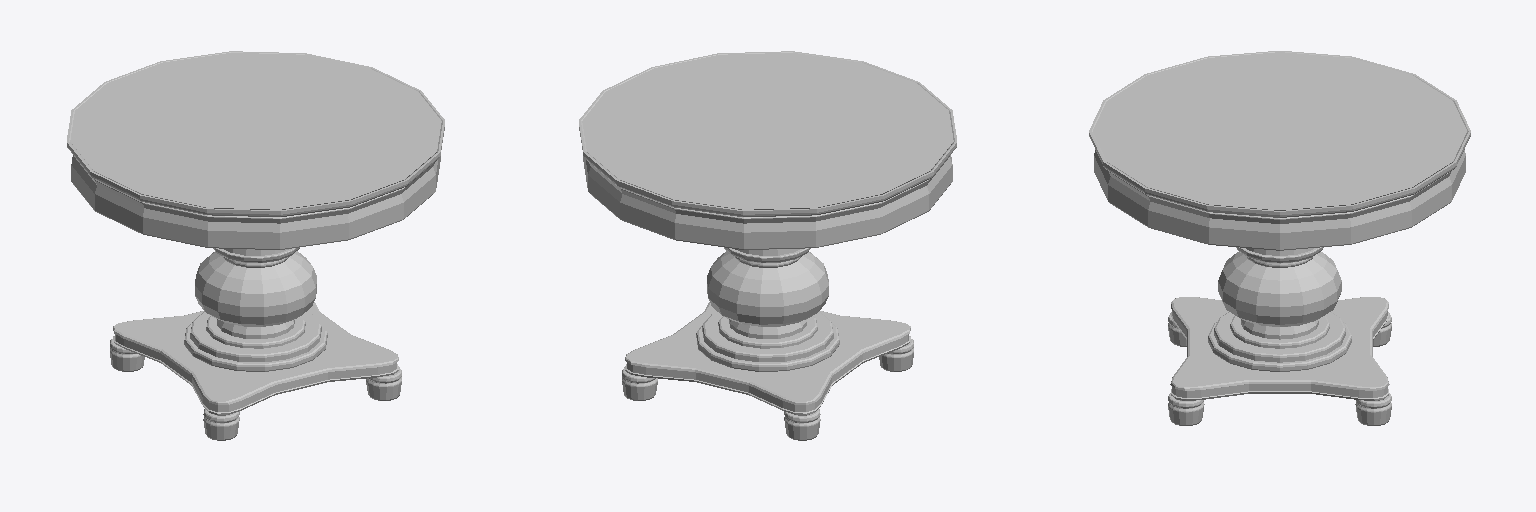
The model's file is table.obj.
The picture shows the model from 3 angles: view 1: azimuth 30°, elevation 25°; view 2: azimuth 150°, elevation 25°; view 3: azimuth 270°, elevation 25°; orthographic projection.
Visible parts, largest first — view 1: Table.001_Cylinder.006; view 2: Table.001_Cylinder.006; view 3: Table.001_Cylinder.006.
Part boxes in pixels (x1,y1,x2,y2): Table.001_Cylinder.006: (67,51,444,440); Table.001_Cylinder.006: (579,51,956,440); Table.001_Cylinder.006: (1089,51,1470,425).
Bounding box in the file's own units: 9.01 × 6.49 × 9.01.